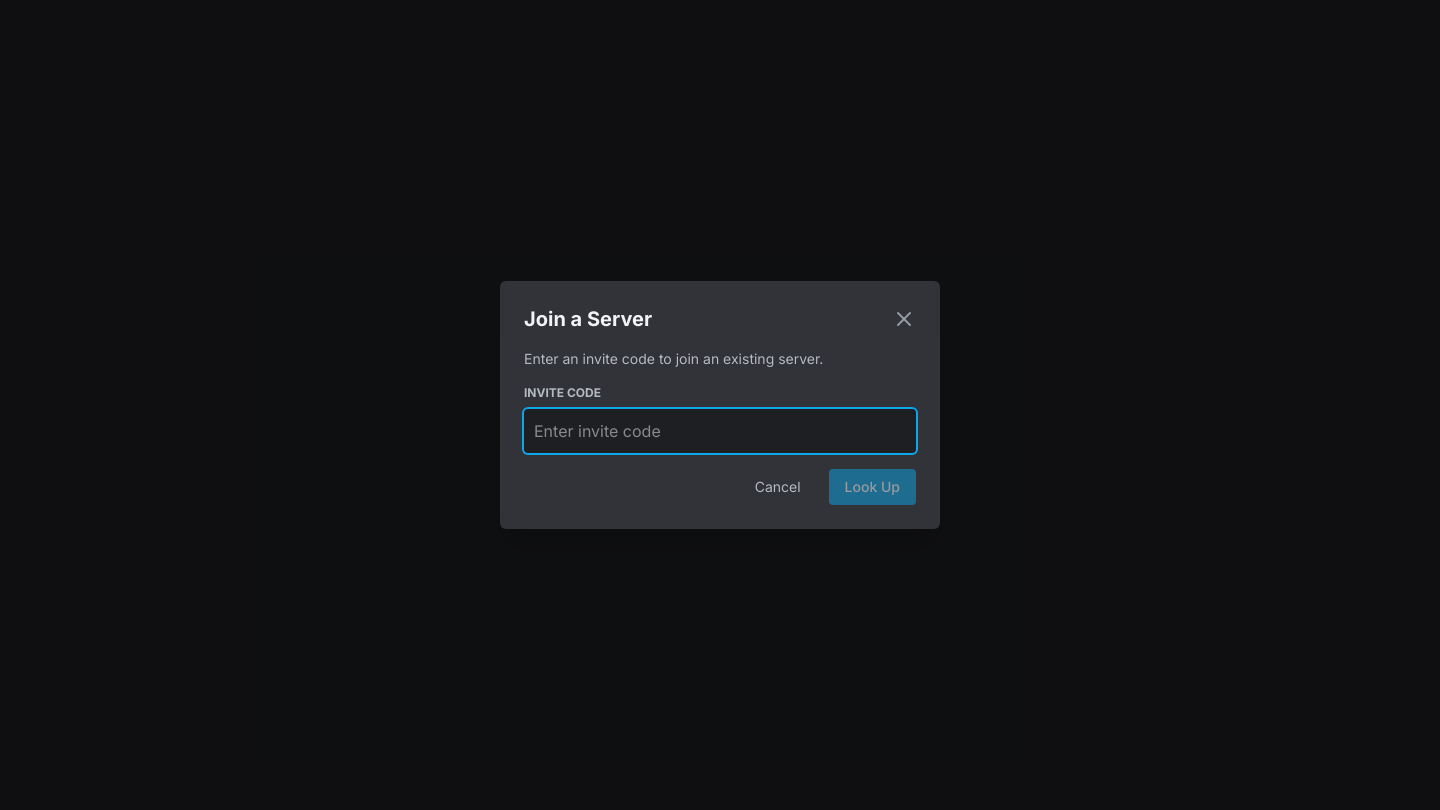
Test case: JoinServerModal › fetches invite preview on Look Up submit
The image size is (1440, 810).
Type "ABC123" into the field with placeholder "Enter invite code" at {"x": 720, "y": 431}, box [524,409,916,453]
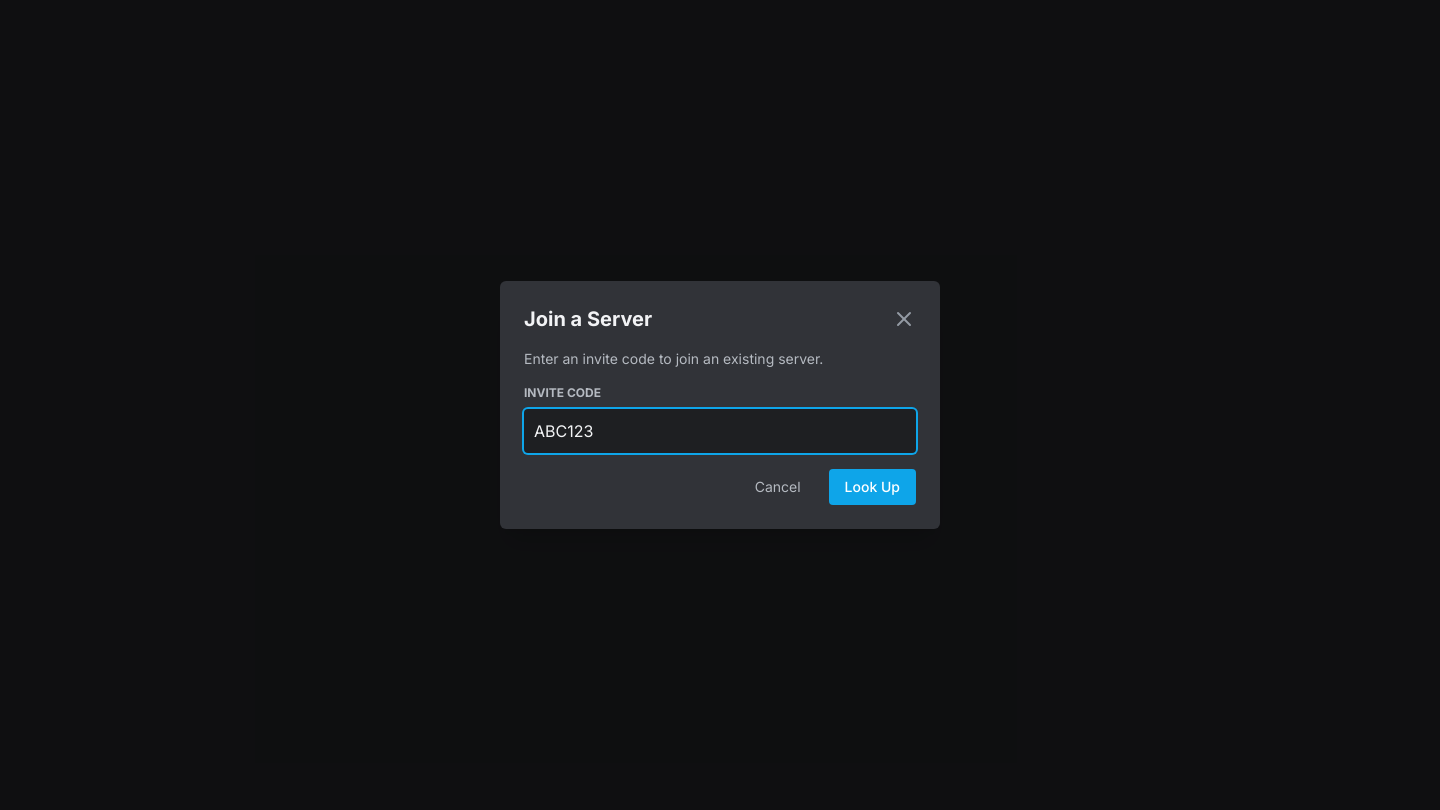
Click the button "Look Up" at {"x": 872, "y": 487}, box [829,469,916,505]
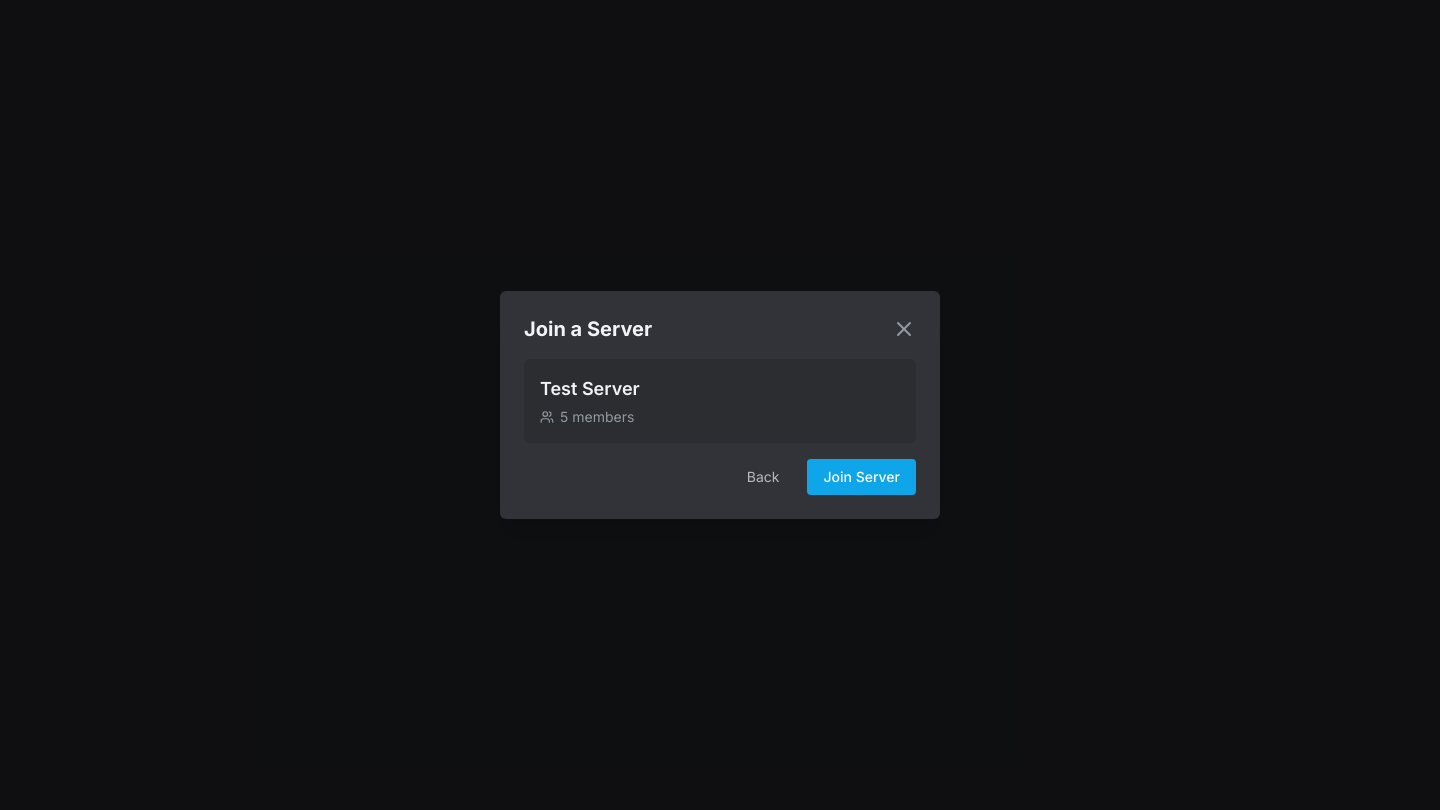
Check: the heading "Test Server" is shown, box [540,378,640,399]
Check: the text "5 members" is shown, box [560,407,634,427]
